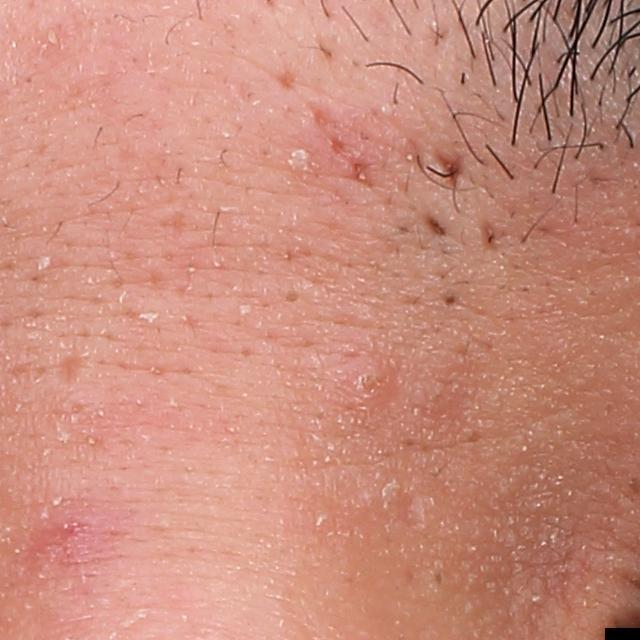atrophic_scar: (56, 349, 90, 383)
comedo: (428, 572, 447, 590), (279, 291, 303, 304)
papule: (341, 357, 393, 407)
